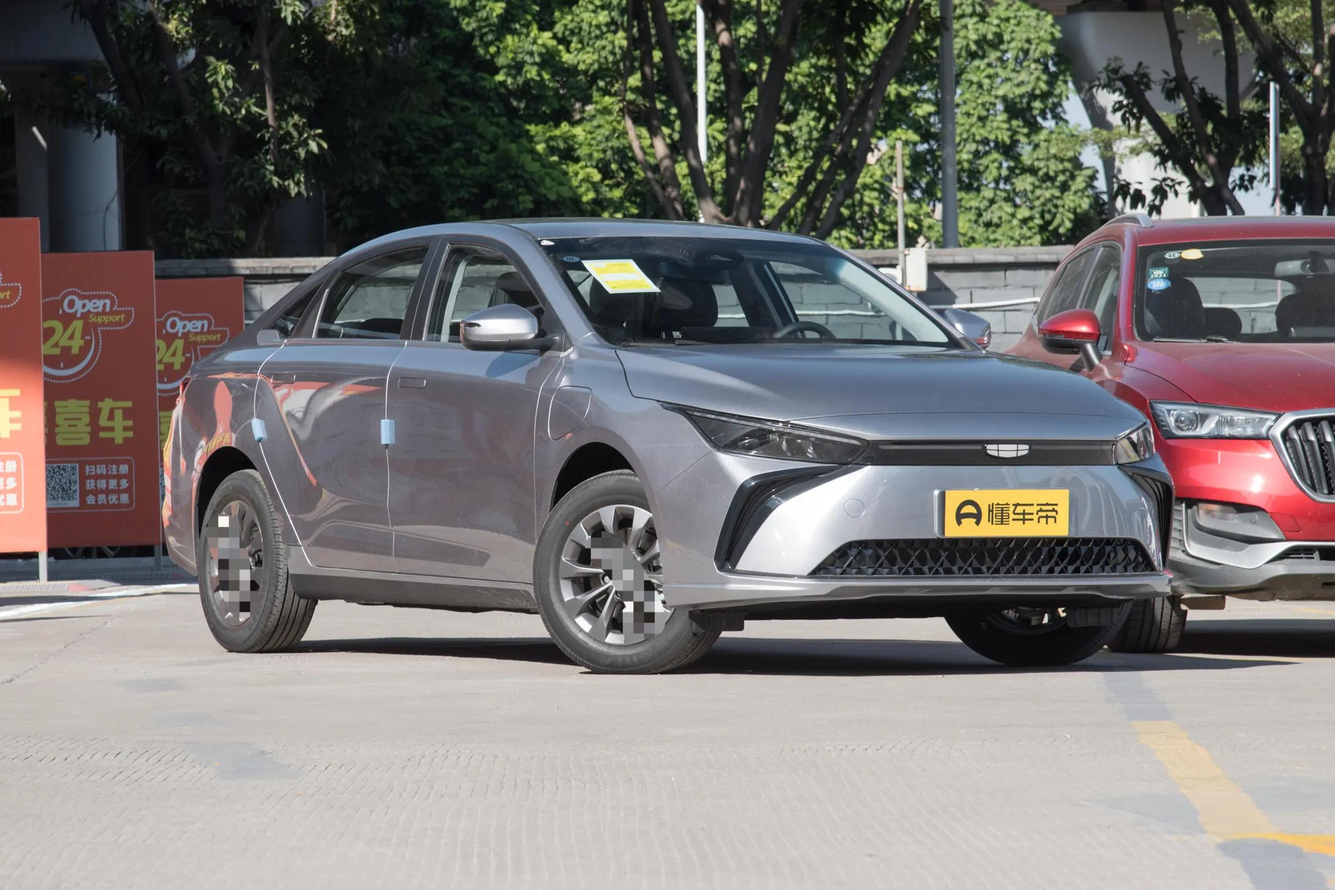GEOMETRY: (987, 445, 1028, 457)
